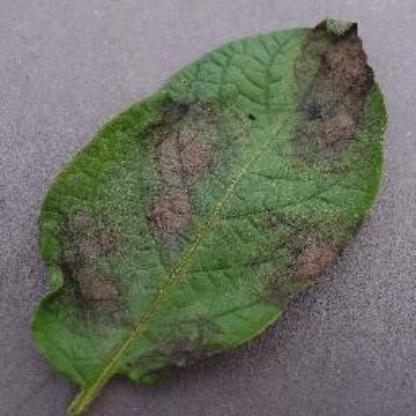Late-Blight: (27, 17, 390, 405)
